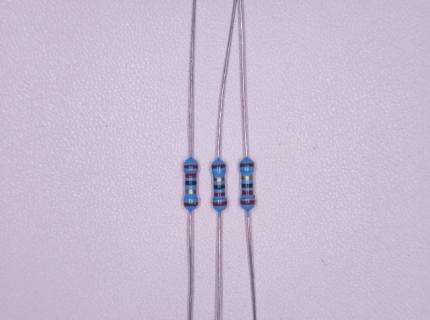Black band: (185, 180, 197, 186), (213, 184, 224, 190), (241, 183, 253, 188)
Brown band: (184, 202, 198, 207), (212, 164, 226, 169), (240, 163, 254, 167)
Gold band: (185, 189, 196, 194), (214, 177, 225, 182), (242, 175, 253, 180)
Red band: (184, 165, 198, 170), (240, 201, 254, 206), (213, 201, 226, 206), (214, 192, 226, 197), (185, 174, 196, 178), (242, 191, 253, 195)
